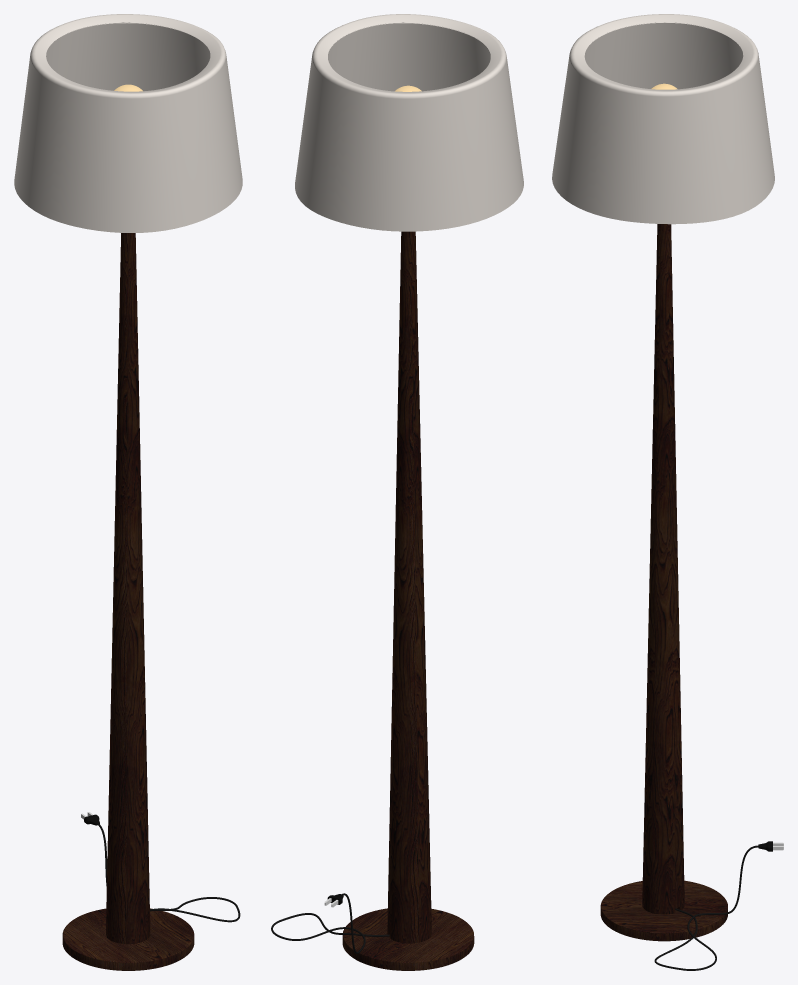
The picture shows the model from 3 angles, left to right: view 1: azimuth 30°, elevation 25°; view 2: azimuth 150°, elevation 25°; view 3: azimuth 270°, elevation 25°; orthographic projection. The views are drawn at different scales.
Parts seen in each view (by area): view 1: Item_FloorLamp.001, Item_FloorLamp.002, FloorLamp_Wire; view 2: Item_FloorLamp.001, Item_FloorLamp.002, FloorLamp_Wire; view 3: Item_FloorLamp.001, Item_FloorLamp.002, FloorLamp_Wire.
Boxes of the visible parts, box(x1,y1,x2,y2) form: Item_FloorLamp.001: box(14, 14, 242, 232); Item_FloorLamp.002: box(62, 233, 194, 970); FloorLamp_Wire: box(97, 823, 240, 922); Item_FloorLamp.001: box(295, 14, 523, 231); Item_FloorLamp.002: box(342, 231, 474, 970); FloorLamp_Wire: box(271, 893, 389, 953); Item_FloorLamp.001: box(552, 14, 774, 224); Item_FloorLamp.002: box(600, 224, 727, 941); FloorLamp_Wire: box(654, 845, 758, 970).
Bounding box in the file's own units: 0.5129 × 1.99 × 0.4848.
6 materials, 1 textured.
